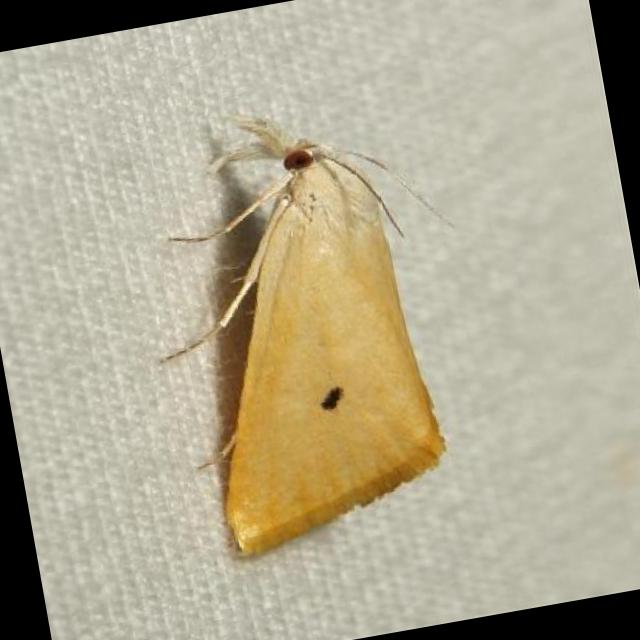stem-borer: (136, 80, 474, 574)
